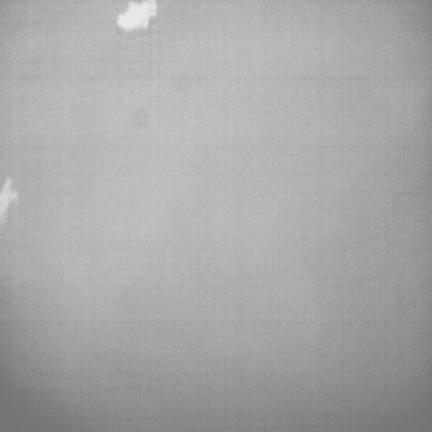flukeprints: (117, 0, 157, 31)
